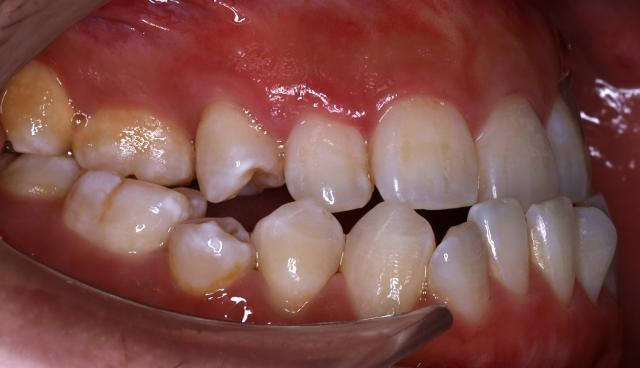molar class II 1/2: (61, 96, 197, 270)
